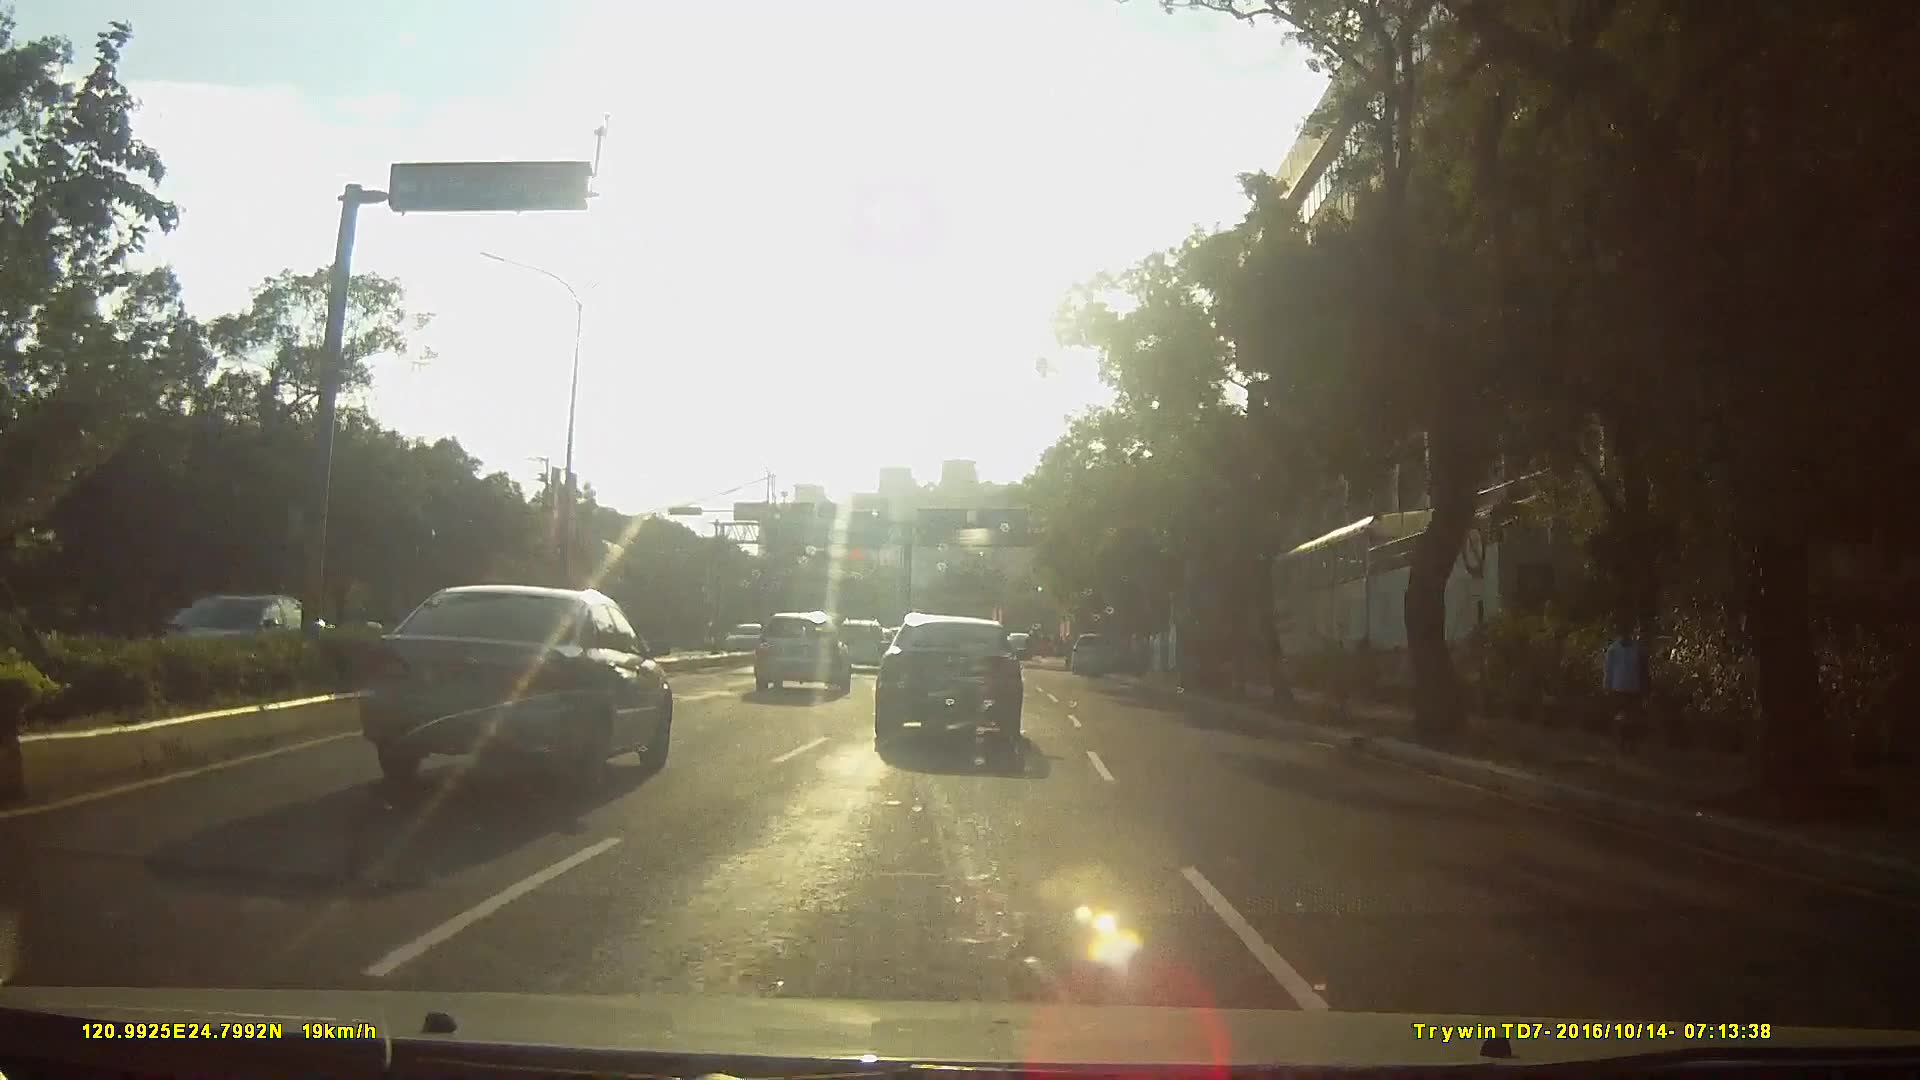pedestrian: (1598, 605, 1653, 758)
vehicle: (342, 582, 667, 798), (869, 613, 1039, 755), (124, 592, 346, 692), (747, 611, 848, 700), (828, 615, 883, 673), (1066, 630, 1117, 677), (720, 620, 772, 659)
